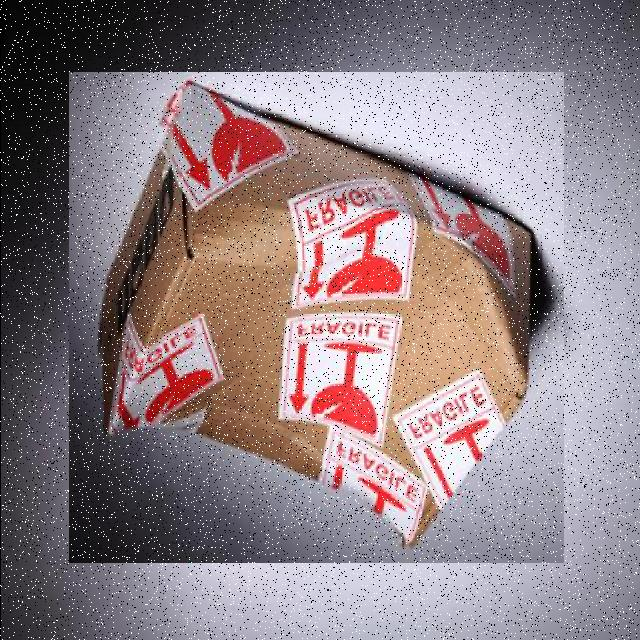defect: (68, 72, 563, 563)
